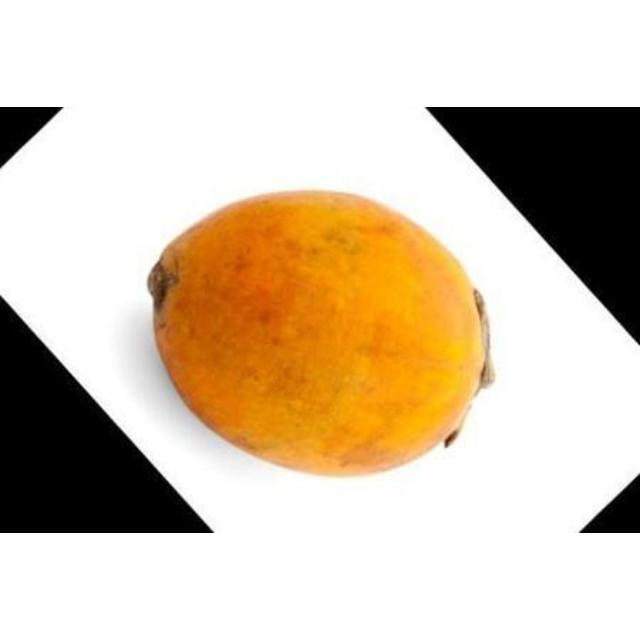good: (145, 189, 489, 481)
